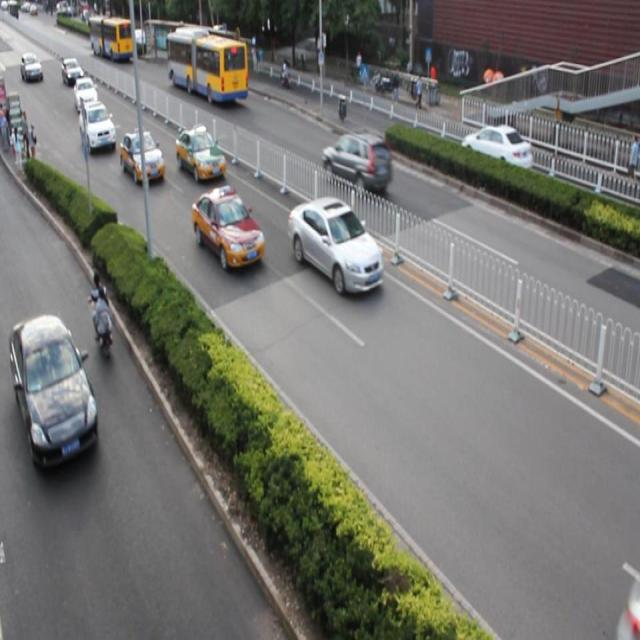car: (8, 314, 98, 468), (286, 194, 383, 294), (191, 183, 264, 267), (320, 129, 391, 199), (458, 121, 531, 184), (176, 125, 226, 180), (119, 129, 164, 183), (78, 100, 116, 156), (73, 75, 98, 113)
van: (166, 23, 248, 103)
